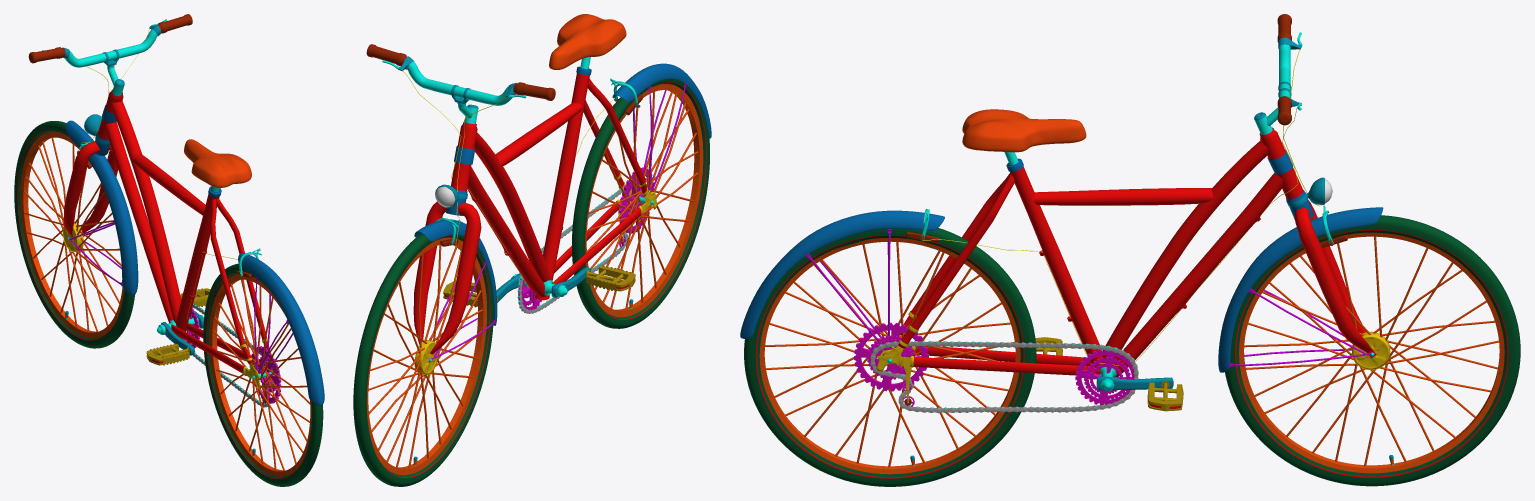
Rendered from mesh_bike.fbx.
3 views of the same model, side by side, from view 1: azimuth 30°, elevation 25°; view 2: azimuth 150°, elevation 25°; view 3: azimuth 270°, elevation 25° (orthographic). The views are drawn at different scales.
Visible parts, largest first — view 1: polySurface1; view 2: polySurface1; view 3: polySurface1.
Part boxes in pixels (x1,y1,x2,y2): polySurface1: (14,14,324,486); polySurface1: (353,14,711,486); polySurface1: (740,14,1520,486).
Size of the model in its own units: 369 by 729 by 1215.
